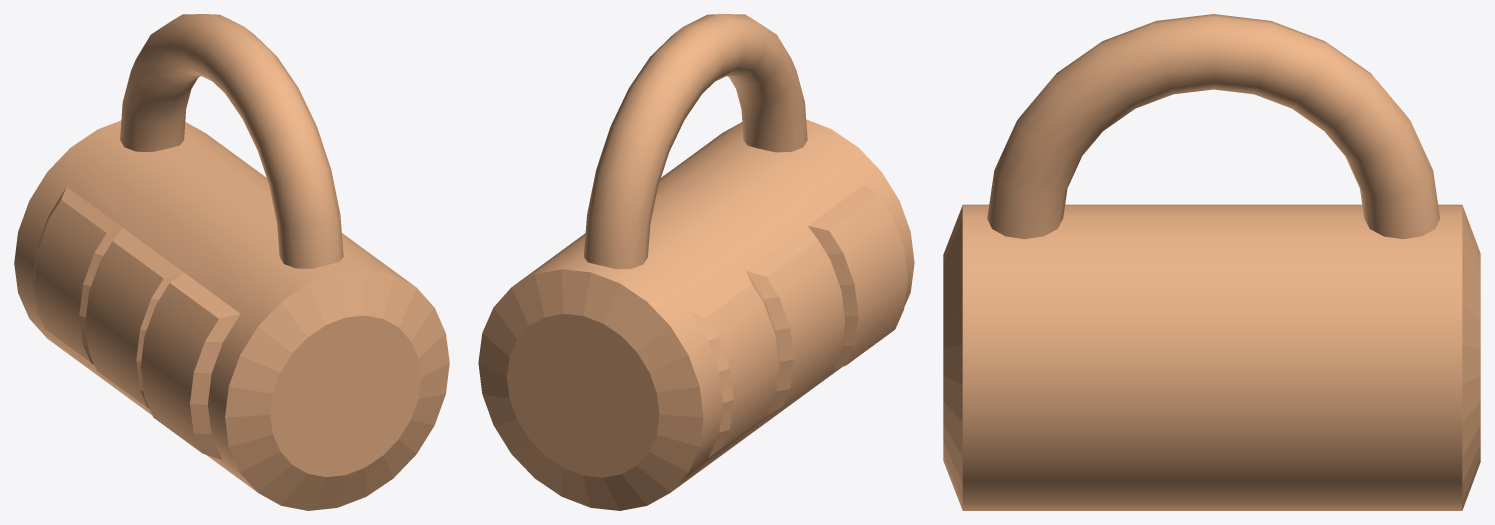
File: Decoder.FBX
The picture shows the model from 3 angles, left to right: view 1: azimuth 30°, elevation 25°; view 2: azimuth 150°, elevation 25°; view 3: azimuth 270°, elevation 25°; orthographic projection. The views are drawn at different scales.
Visible parts, largest first — view 1: Torus001; view 2: Torus001; view 3: Torus001.
Boxes of the visible parts, bbox=[...] form: Torus001: bbox=[14, 14, 449, 510]; Torus001: bbox=[478, 14, 914, 510]; Torus001: bbox=[943, 14, 1480, 510].
Bounding box in the file's own units: 32.48 × 52.52 × 53.4.
